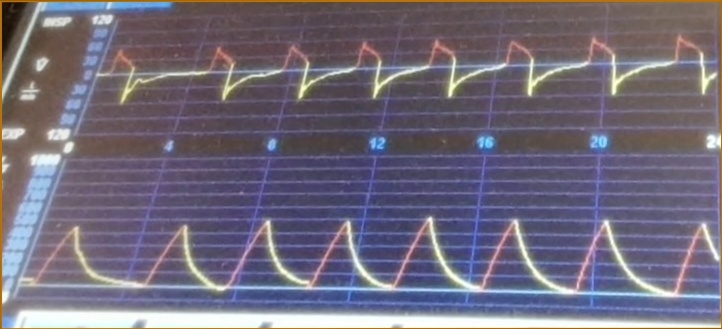Premature_cycling Flow: (106, 26, 716, 129)
Premature_cycling Volume: (36, 213, 717, 306)
